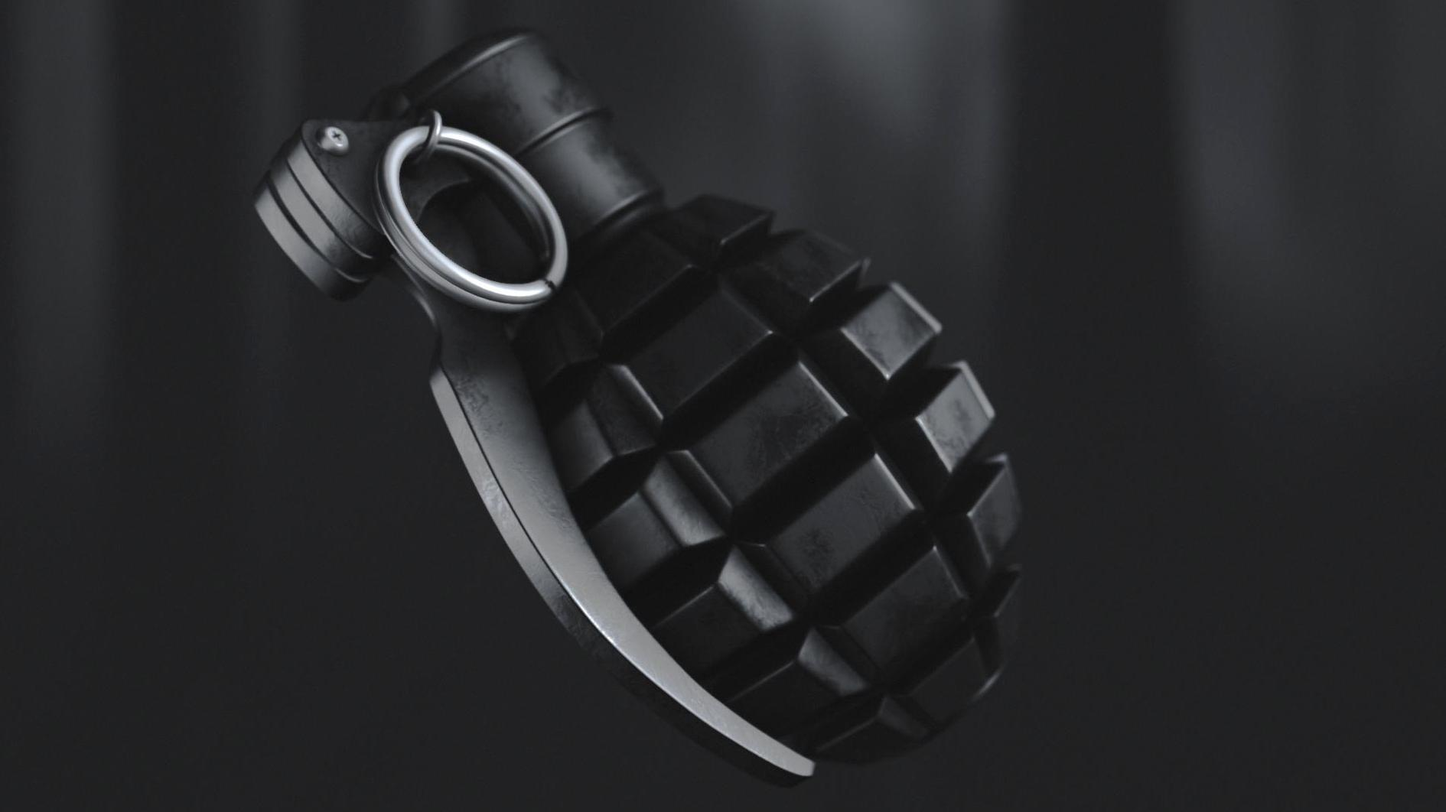Grenade: (253, 28, 1027, 779)
